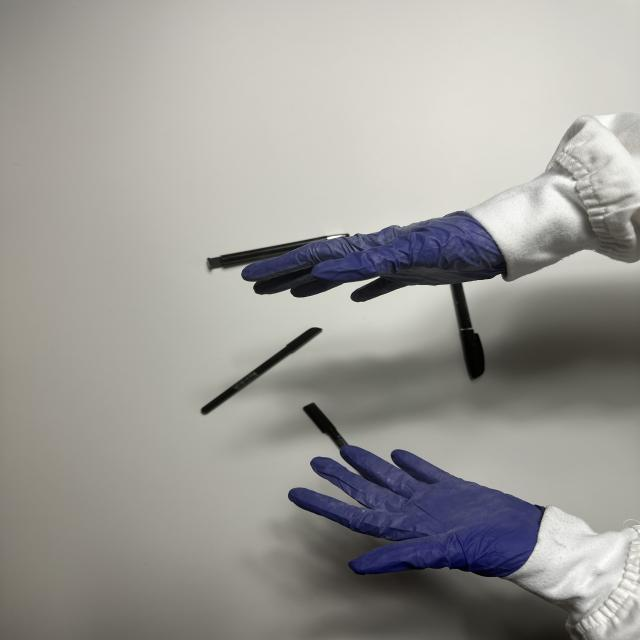gloves_contaminated: (289, 446, 543, 577), (242, 212, 506, 301)
